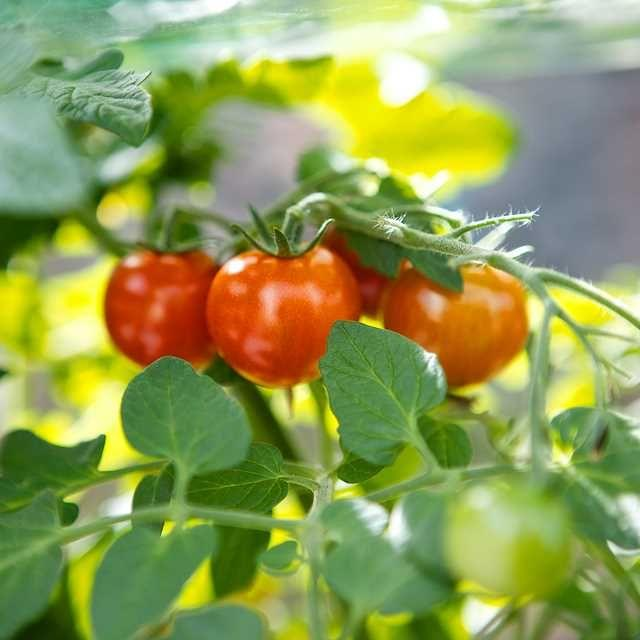level 2: (442, 467, 584, 609)
level 5: (382, 263, 532, 387)
level 6: (205, 243, 361, 388), (105, 244, 237, 370), (310, 199, 448, 318)
